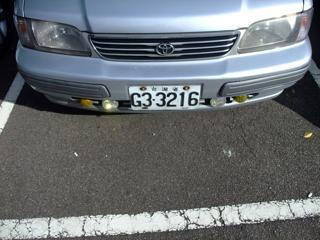plate: (125, 83, 201, 112)
